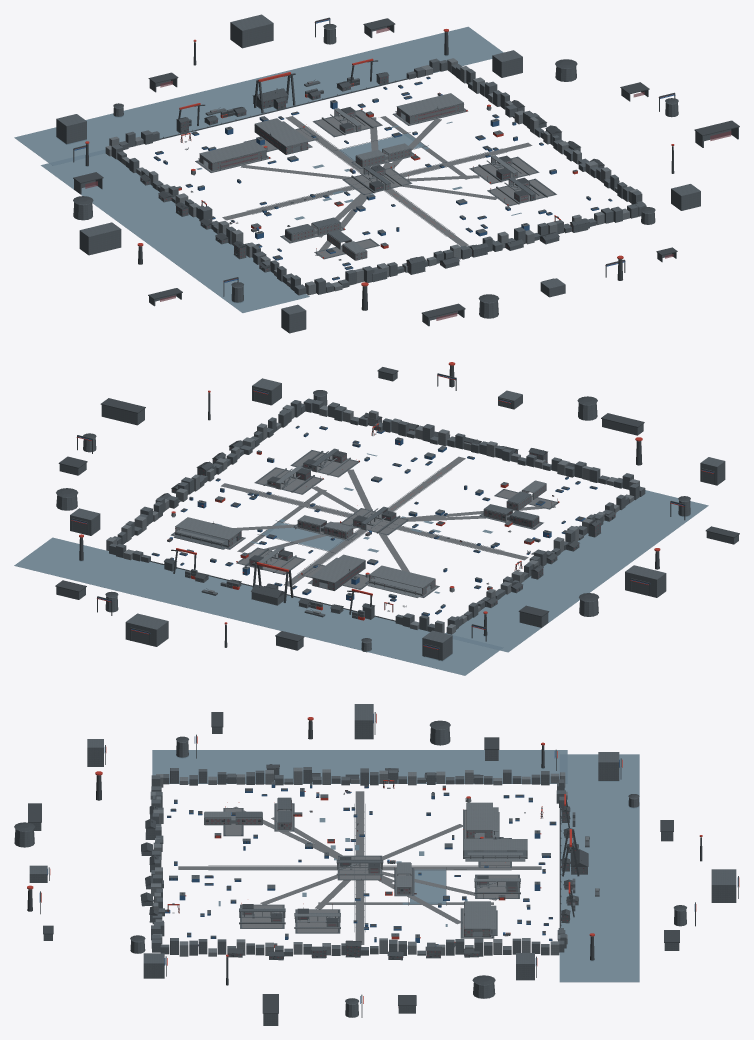
Rendered from kouwan-lod0.glb.
3 views of the same model, one above another, from view 1: azimuth 30°, elevation 25°; view 2: azimuth 150°, elevation 25°; view 3: azimuth 270°, elevation 25° (orthographic). The views are drawn at different scales.
Visible parts, largest first — view 1: HB_kouwan_LOD0_water, HB_kouwan_LOD0_wall_alt, HB_kouwan_LOD0_wall, HB_kouwan_LOD0_trim, HB_kouwan_LOD0_road, HB_kouwan_LOD0_obstacle, HB_kouwan_LOD0_glass, HB_kouwan_LOD0_accent; view 2: HB_kouwan_LOD0_water, HB_kouwan_LOD0_wall_alt, HB_kouwan_LOD0_wall, HB_kouwan_LOD0_trim, HB_kouwan_LOD0_road, HB_kouwan_LOD0_obstacle, HB_kouwan_LOD0_accent, HB_kouwan_LOD0_glass; view 3: HB_kouwan_LOD0_water, HB_kouwan_LOD0_wall_alt, HB_kouwan_LOD0_wall, HB_kouwan_LOD0_trim, HB_kouwan_LOD0_road, HB_kouwan_LOD0_obstacle, HB_kouwan_LOD0_accent, HB_kouwan_LOD0_glass.
Part boxes in pixels (bbox=[...]): HB_kouwan_LOD0_water: bbox=[14, 26, 521, 312]; HB_kouwan_LOD0_wall_alt: bbox=[56, 14, 738, 333]; HB_kouwan_LOD0_wall: bbox=[105, 58, 641, 295]; HB_kouwan_LOD0_trim: bbox=[73, 17, 739, 318]; HB_kouwan_LOD0_road: bbox=[184, 108, 556, 260]; HB_kouwan_LOD0_obstacle: bbox=[74, 19, 675, 282]; HB_kouwan_LOD0_glass: bbox=[85, 27, 731, 320]; HB_kouwan_LOD0_accent: bbox=[75, 19, 674, 286]; HB_kouwan_LOD0_water: bbox=[14, 453, 708, 675]; HB_kouwan_LOD0_wall_alt: bbox=[56, 371, 738, 660]; HB_kouwan_LOD0_wall: bbox=[106, 405, 639, 634]; HB_kouwan_LOD0_trim: bbox=[55, 365, 739, 660]; HB_kouwan_LOD0_road: bbox=[170, 433, 558, 611]; HB_kouwan_LOD0_obstacle: bbox=[72, 374, 713, 649]; HB_kouwan_LOD0_accent: bbox=[71, 362, 713, 649]; HB_kouwan_LOD0_glass: bbox=[172, 418, 615, 605]; HB_kouwan_LOD0_water: bbox=[152, 750, 639, 982]; HB_kouwan_LOD0_wall_alt: bbox=[14, 704, 736, 1025]; HB_kouwan_LOD0_wall: bbox=[150, 767, 598, 956]; HB_kouwan_LOD0_trim: bbox=[14, 712, 738, 1017]; HB_kouwan_LOD0_road: bbox=[172, 787, 542, 944]; HB_kouwan_LOD0_obstacle: bbox=[39, 714, 737, 1003]; HB_kouwan_LOD0_accent: bbox=[27, 713, 739, 1003]; HB_kouwan_LOD0_glass: bbox=[206, 795, 584, 1007].
Bounding box in the file's own units: 653 × 32 × 654.
9 materials, 7 textured.
